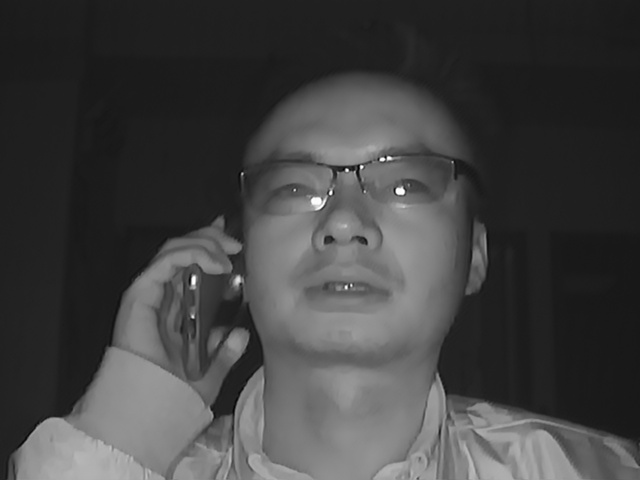hand: (119, 217, 244, 378)
